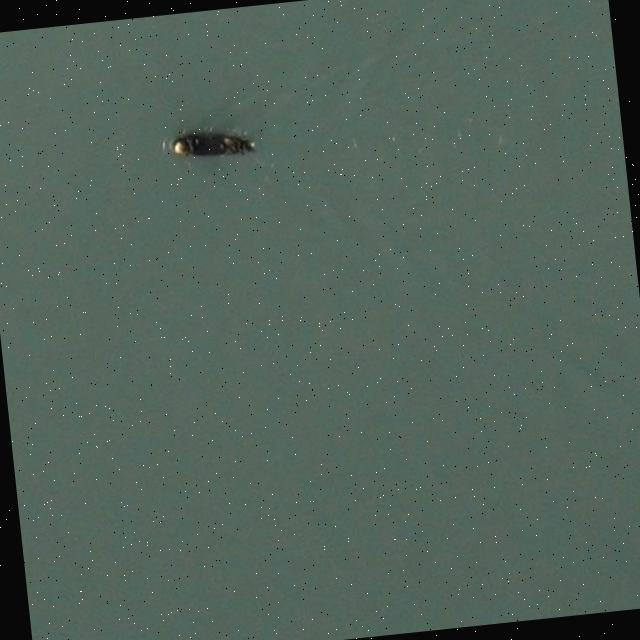seal: (169, 128, 255, 160)
